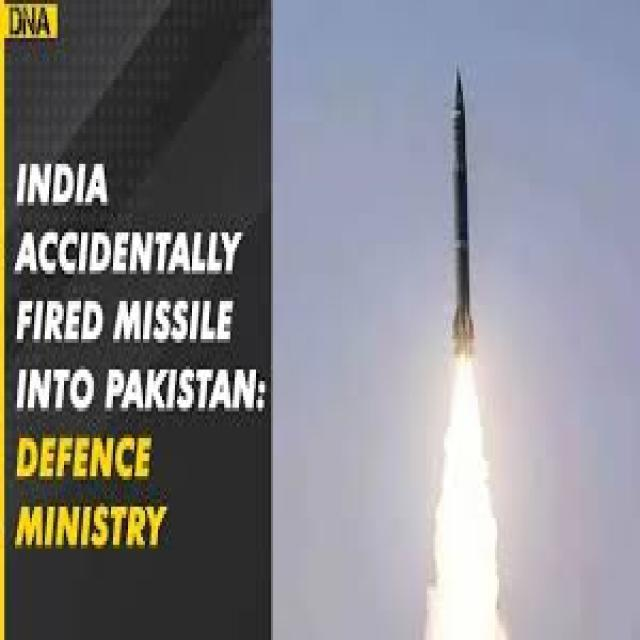Missile: (449, 64, 476, 367)
